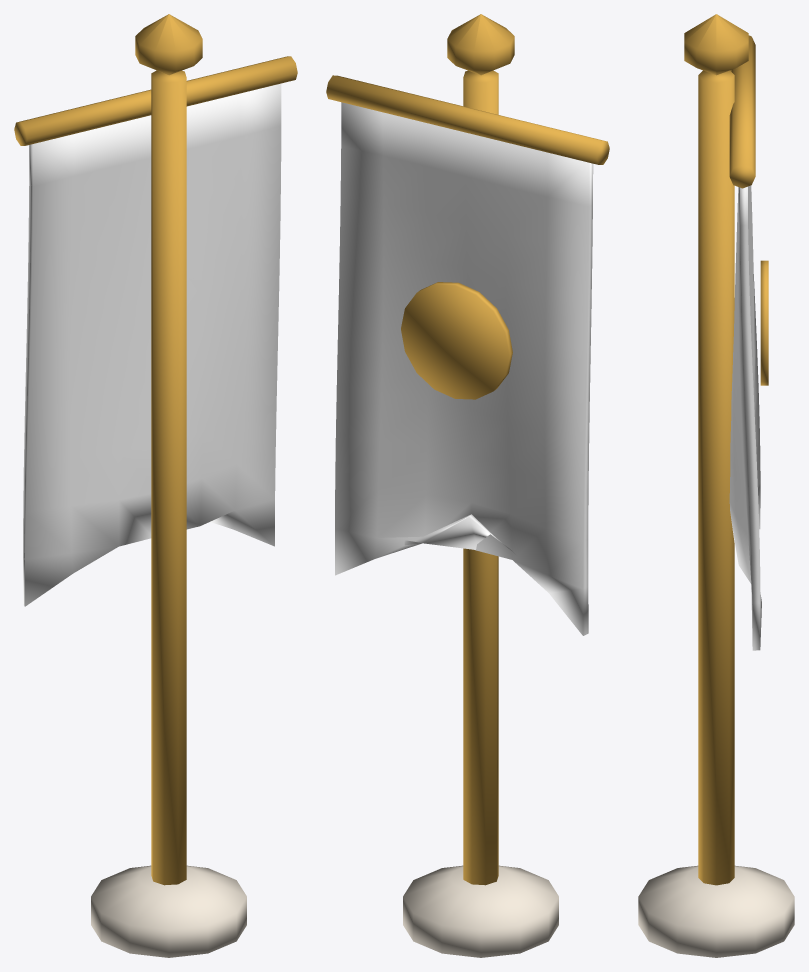
Rendered from banner.glb.
The picture shows the model from 3 angles, left to right: view 1: azimuth 30°, elevation 25°; view 2: azimuth 150°, elevation 25°; view 3: azimuth 270°, elevation 25°; orthographic projection.
Visible parts, largest first — view 1: cloth, pole, foot, bar, knob; view 2: cloth, pole, foot, emblem, bar, knob; view 3: pole, foot, cloth, bar, knob, emblem.
Boxes of the visible parts, x1,y1,x2,y2 form: cloth: (23,83,281,606); pole: (151,70,186,885); foot: (91,865,246,957); bar: (14,56,297,145); knob: (135,14,202,75); cloth: (335,102,593,635); pole: (463,70,498,885); foot: (403,865,558,957); emblem: (401,282,512,399); bar: (326,75,609,164); knob: (447,14,514,75); pole: (698,70,734,885); foot: (638,865,794,957); cloth: (729,185,761,650); bar: (729,35,755,188); knob: (684,14,748,75); emblem: (760,260,768,385).
Bounding box in the file's own units: 1.2 × 3.86 × 0.6.
